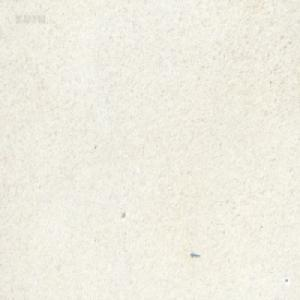Nail: (190, 250, 200, 257)
